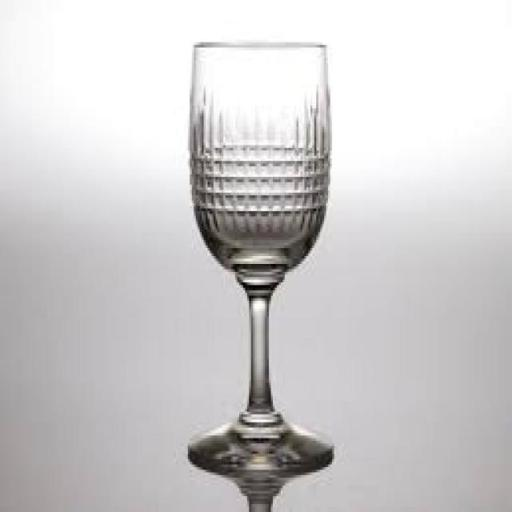glass: (152, 13, 342, 512)
